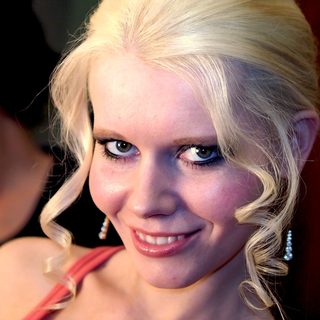eye: (176, 142, 227, 169), (98, 134, 138, 163)
